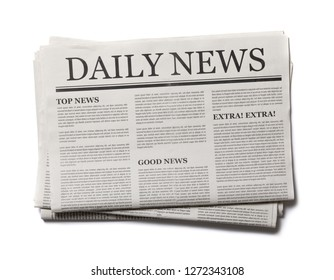news_paper: (24, 34, 308, 245), (33, 183, 292, 238)
